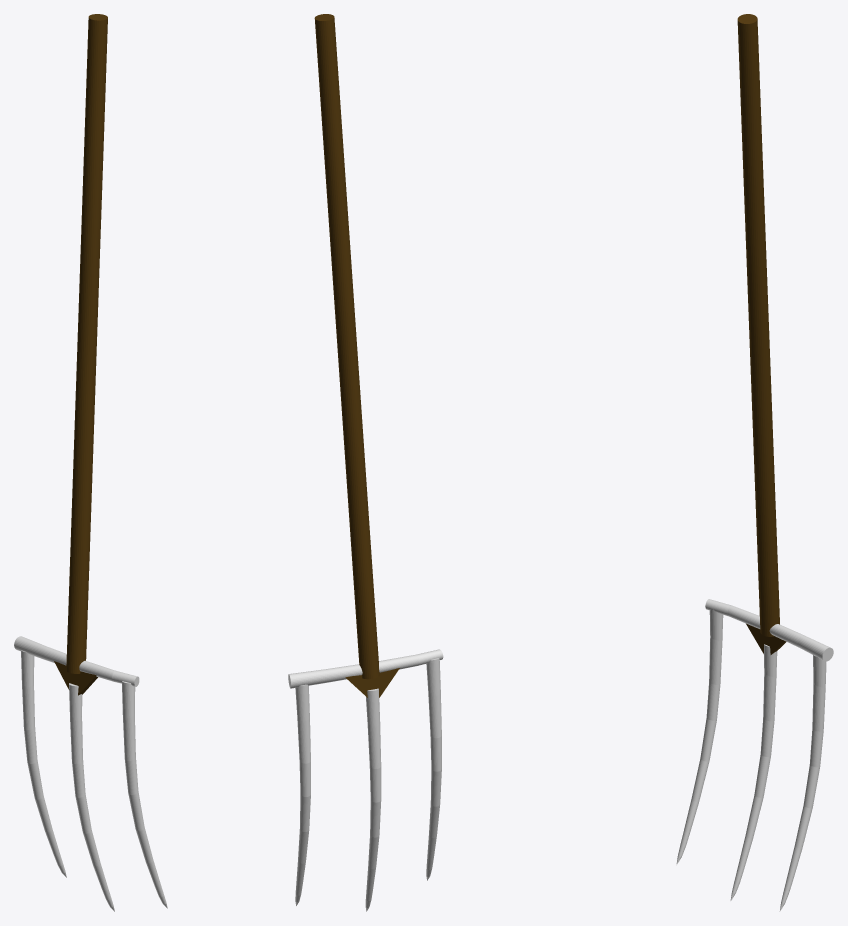
Rendered from fork.fbx.
The picture shows the model from 3 angles, left to right: view 1: azimuth 90°, elevation 25°; view 2: azimuth 150°, elevation 25°; view 3: azimuth 270°, elevation 25°; orthographic projection. The views are drawn at different scales.
Visible parts, largest first — view 1: Plane; view 2: Plane; view 3: Plane.
Part boxes in pixels (left/top/right/bottom): Plane: left=14, top=14, right=167, bottom=911; Plane: left=288, top=14, right=443, bottom=911; Plane: left=676, top=14, right=833, bottom=911.
Size of the model in its own units: 24.21 by 130 by 32.81.
